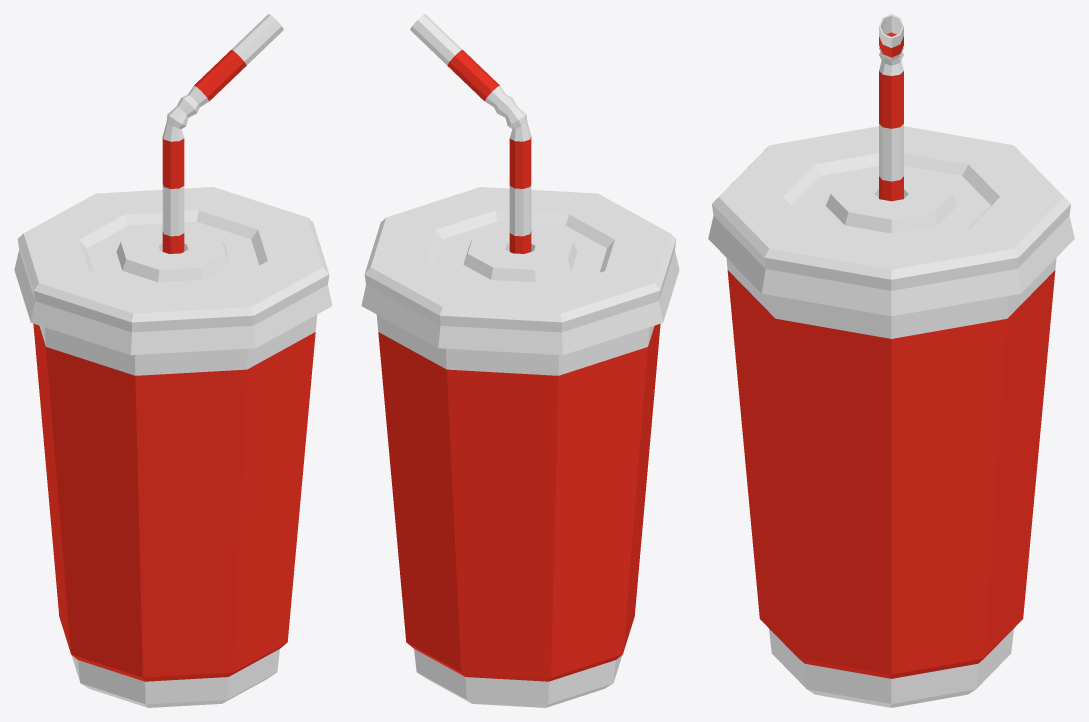
The model's file is Soda.glb.
The picture shows the model from 3 angles, left to right: view 1: azimuth 30°, elevation 25°; view 2: azimuth 150°, elevation 25°; view 3: azimuth 270°, elevation 25°; orthographic projection. The views are drawn at different scales.
Parts seen in each view (by area): view 1: Soda; view 2: Soda; view 3: Soda.
Boxes of the visible parts, box(x1,y1,x2,y2) form: Soda: box(14, 14, 332, 707); Soda: box(361, 14, 679, 707); Soda: box(708, 14, 1074, 707).
Size of the model in its own units: 91.18 by 192 by 91.18.
